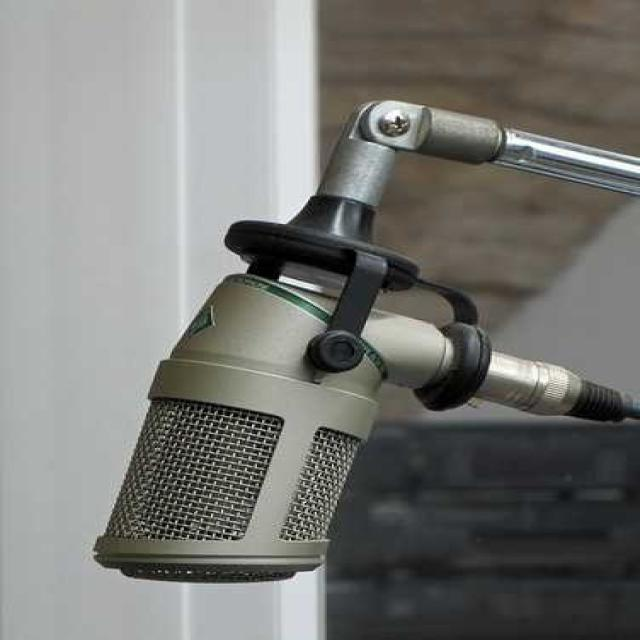microphone: (93, 99, 630, 583)
